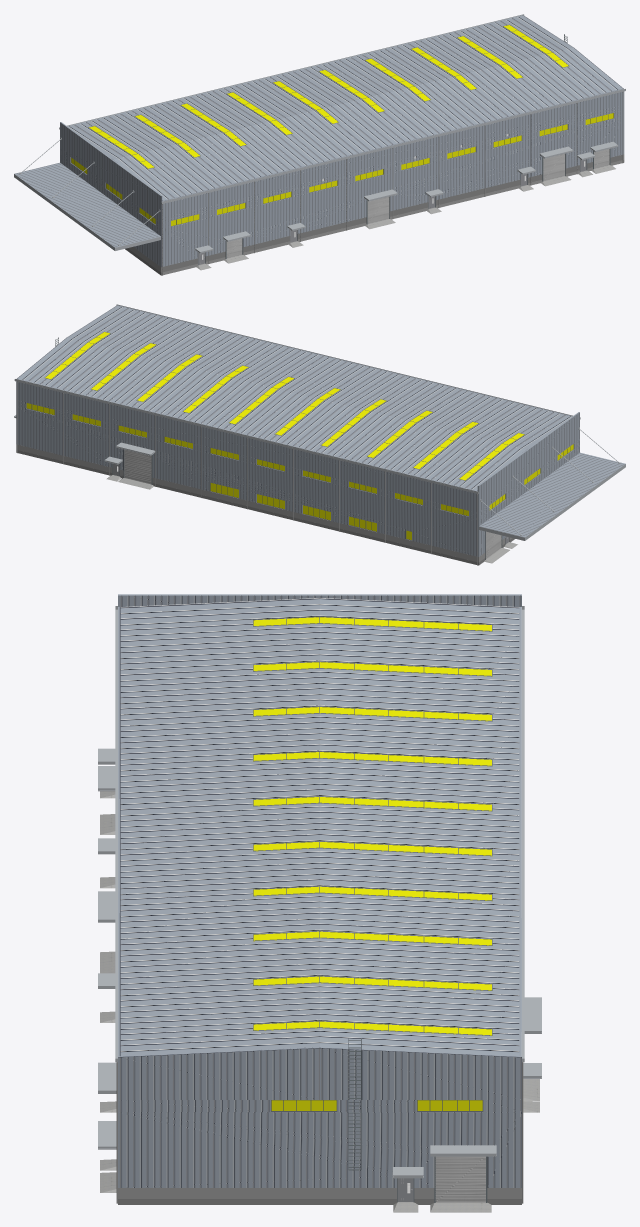
Rendered from changfanghuise.glb.
The picture shows the model from 3 angles, top to bottom: view 1: azimuth 30°, elevation 25°; view 2: azimuth 150°, elevation 25°; view 3: azimuth 270°, elevation 25°; orthographic projection. The views are drawn at different scales.
Visible parts, largest first — view 1: Obj3d66-1023584-482-845, Obj3d66-1023584-448-94, Obj3d66-1023584-499-330, Obj3d66-1023584-484-846, Obj3d66-1023584-494-560, Obj3d66-1023584-497-295, Obj3d66-1023584-476-211, Obj3d66-1023584-444-47, Obj3d66-1023584-496-630, Obj3d66-1023584-439-224, Obj3d66-1023584-487-97, Obj3d66-1023584-433-450 (+15 smaller); view 2: Obj3d66-1023584-482-845, Obj3d66-1023584-467-769, Obj3d66-1023584-499-330, Obj3d66-1023584-484-846, Obj3d66-1023584-473-217, Obj3d66-1023584-492-223, Obj3d66-1023584-497-295, Obj3d66-1023584-469-557, Obj3d66-1023584-479-129, Obj3d66-1023584-450-963, Obj3d66-1023584-487-97, Obj3d66-1023584-448-94 (+11 smaller); view 3: Obj3d66-1023584-482-845, Obj3d66-1023584-466-350, Obj3d66-1023584-496-630, Obj3d66-1023584-493-644, Obj3d66-1023584-484-846, Obj3d66-1023584-497-295, Obj3d66-1023584-475-937, Obj3d66-1023584-433-450, Obj3d66-1023584-460-646, Obj3d66-1023584-477-967, Obj3d66-1023584-456-972, Obj3d66-1023584-462-245 (+13 smaller).
Part boxes in pixels (bbox=[...]): Obj3d66-1023584-482-845: bbox=[68, 16, 621, 200]; Obj3d66-1023584-448-94: bbox=[162, 88, 622, 266]; Obj3d66-1023584-499-330: bbox=[14, 162, 160, 247]; Obj3d66-1023584-484-846: bbox=[60, 122, 162, 267]; Obj3d66-1023584-494-560: bbox=[163, 155, 622, 272]; Obj3d66-1023584-497-295: bbox=[59, 14, 625, 203]; Obj3d66-1023584-476-211: bbox=[171, 113, 613, 226]; Obj3d66-1023584-444-47: bbox=[226, 149, 609, 258]; Obj3d66-1023584-496-630: bbox=[195, 141, 617, 253]; Obj3d66-1023584-439-224: bbox=[163, 160, 622, 275]; Obj3d66-1023584-487-97: bbox=[162, 91, 623, 275]; Obj3d66-1023584-433-450: bbox=[196, 165, 615, 270]; Obj3d66-1023584-482-845: bbox=[18, 306, 571, 490]; Obj3d66-1023584-467-769: bbox=[18, 379, 477, 556]; Obj3d66-1023584-499-330: bbox=[479, 452, 625, 537]; Obj3d66-1023584-484-846: bbox=[477, 412, 579, 556]; Obj3d66-1023584-473-217: bbox=[26, 403, 468, 539]; Obj3d66-1023584-492-223: bbox=[18, 445, 476, 561]; Obj3d66-1023584-497-295: bbox=[14, 304, 580, 493]; Obj3d66-1023584-469-557: bbox=[18, 450, 476, 564]; Obj3d66-1023584-479-129: bbox=[26, 403, 468, 540]; Obj3d66-1023584-450-963: bbox=[124, 449, 151, 484]; Obj3d66-1023584-487-97: bbox=[17, 381, 477, 565]; Obj3d66-1023584-448-94: bbox=[118, 305, 572, 416]; Obj3d66-1023584-482-845: bbox=[120, 598, 519, 1056]; Obj3d66-1023584-466-350: bbox=[118, 1047, 521, 1187]; Obj3d66-1023584-496-630: bbox=[98, 748, 541, 1149]; Obj3d66-1023584-493-644: bbox=[118, 1188, 521, 1198]; Obj3d66-1023584-484-846: bbox=[118, 594, 521, 606]; Obj3d66-1023584-497-295: bbox=[115, 606, 524, 1062]; Obj3d66-1023584-475-937: bbox=[435, 1156, 485, 1202]; Obj3d66-1023584-433-450: bbox=[100, 791, 539, 1192]; Obj3d66-1023584-460-646: bbox=[118, 1199, 521, 1204]; Obj3d66-1023584-477-967: bbox=[253, 842, 492, 856]; Obj3d66-1023584-456-972: bbox=[253, 707, 491, 721]; Obj3d66-1023584-462-245: bbox=[253, 797, 491, 811].
Bounding box in the file's own units: 0.6393 × 0.0989 × 0.2375.
12 materials, 8 textured.
